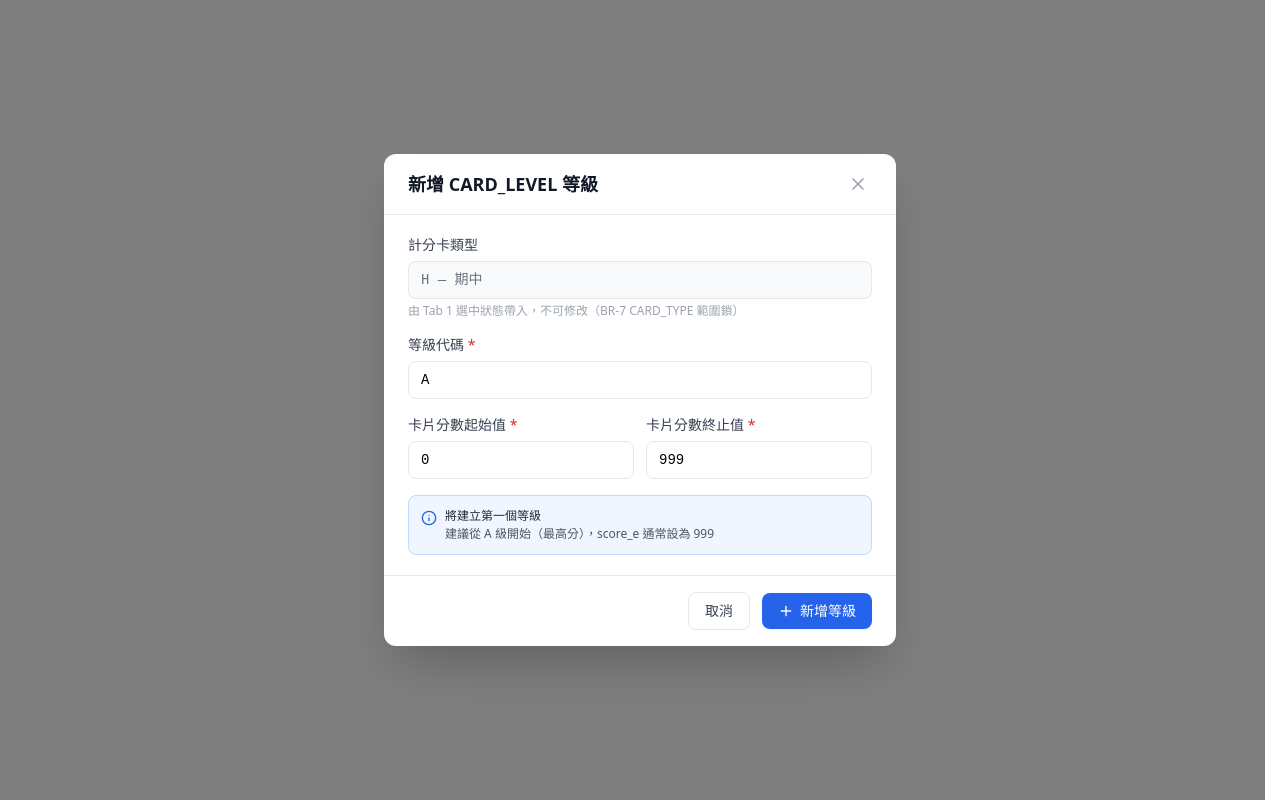
Test: CreateCardLevelModal — F055 v1.5 › TS-F055-M07：422 CARD_LEVEL_DUPLICATE → 顯示 cardLevel inline 錯誤，modal 不關閉
The width and height of the screenshot is (1280, 800).
Click the button with test id "level-modal-submit" at (817, 611), box left=762, top=593, right=872, bottom=629
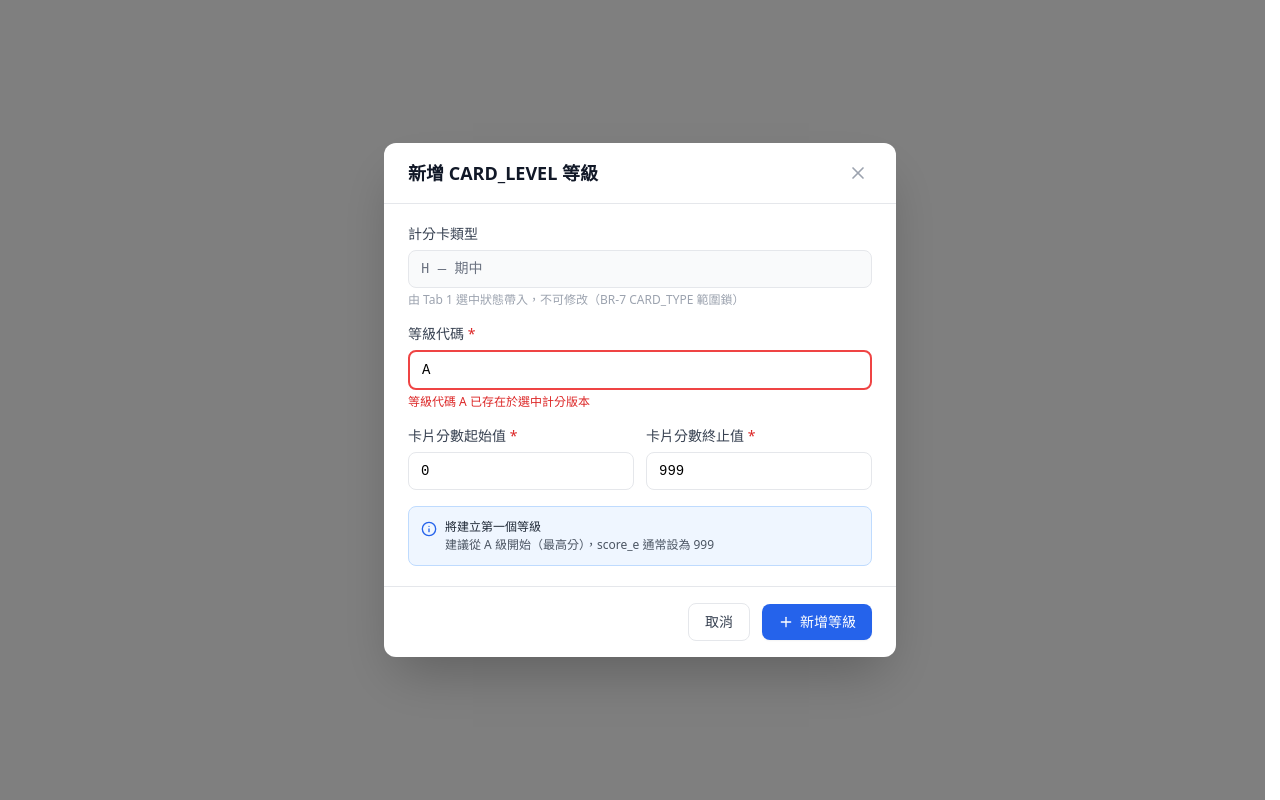
Result: the message with test id "level-modal-card-level-error" shows "已存在" at left=408, top=393, right=590, bottom=410
